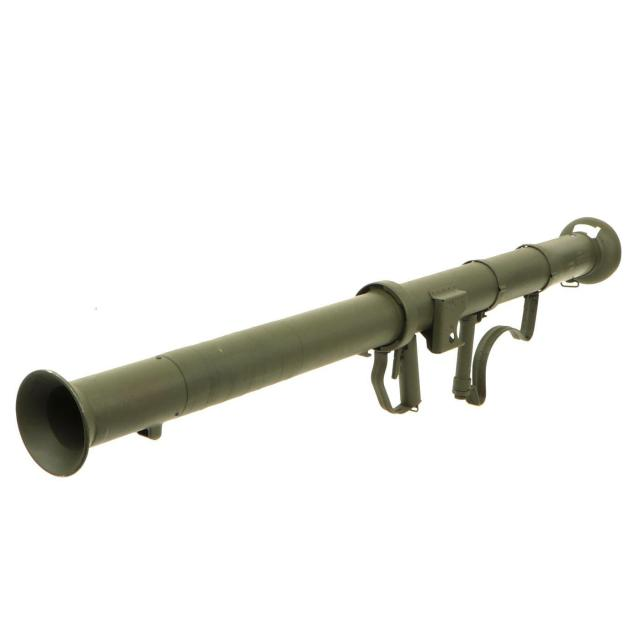bazooka: (12, 210, 631, 490)
